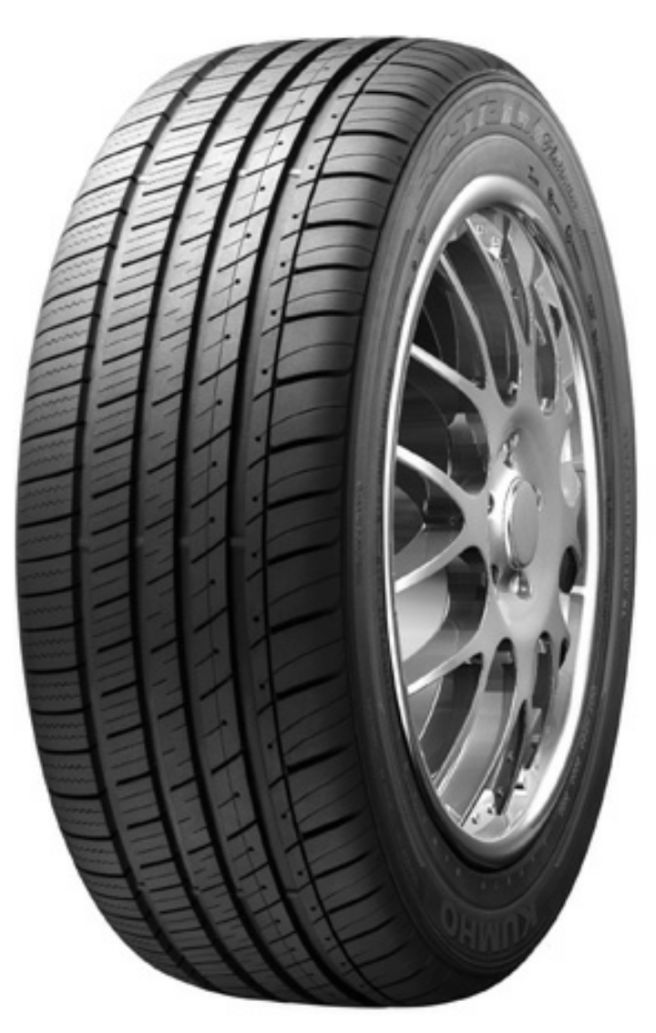new_condition: (2, 36, 525, 1003)
